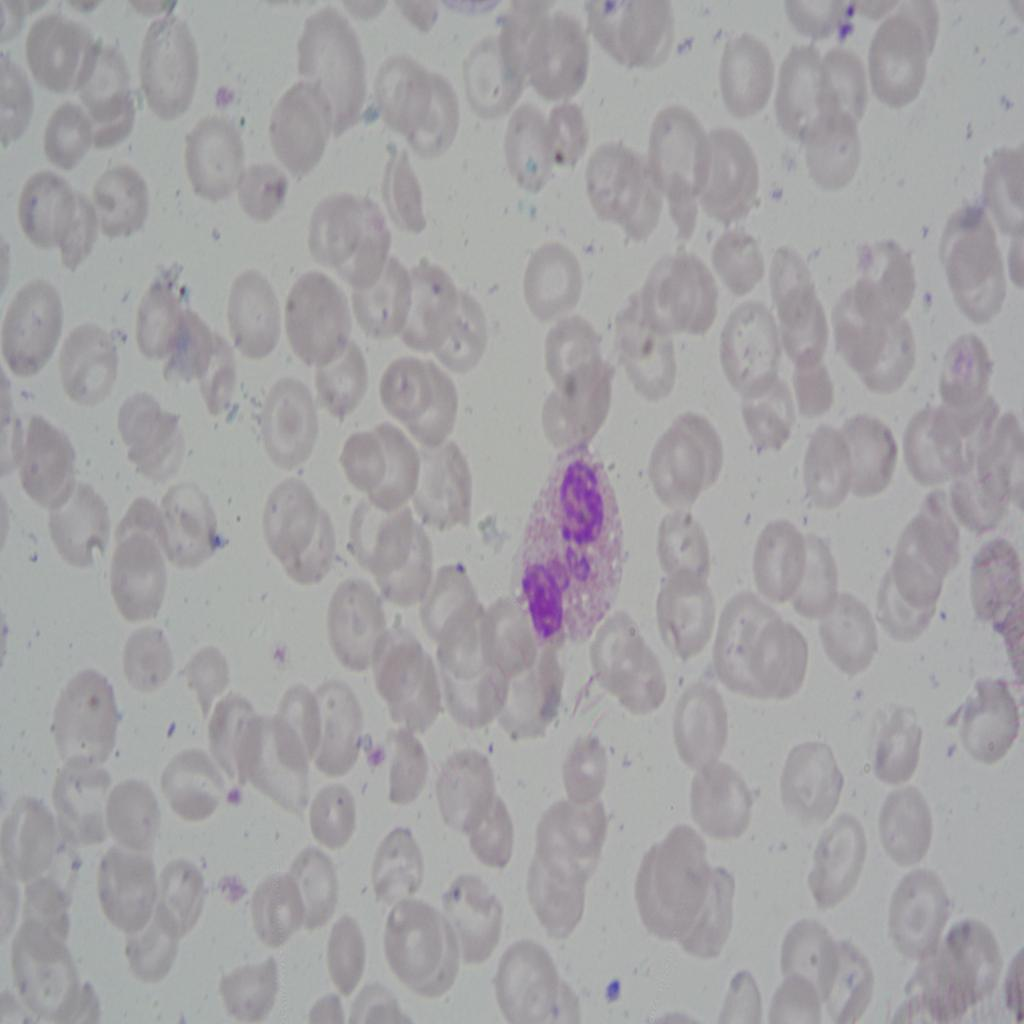Eosinofil: (526, 452, 621, 642)
Platelet: (594, 954, 628, 1011), (213, 76, 239, 110), (835, 20, 853, 50), (844, 1, 864, 22)
